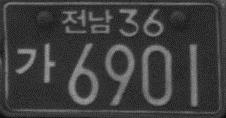0: (141, 44, 174, 106)
1: (186, 41, 201, 109)
3: (118, 6, 139, 36)
6: (67, 42, 100, 106), (143, 7, 164, 38)
9: (105, 42, 136, 106)
가: (15, 41, 56, 85)
전남_O: (60, 6, 114, 35)
